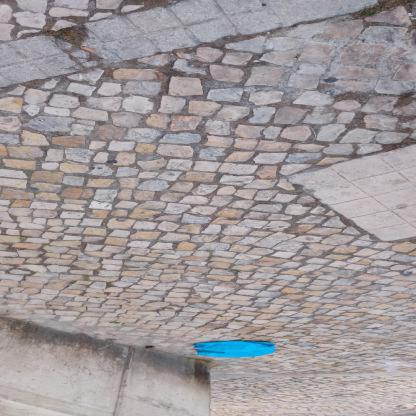Cigarette: (154, 72, 169, 83), (82, 47, 96, 53)
Plastic bag - wrapper: (194, 341, 277, 357)
